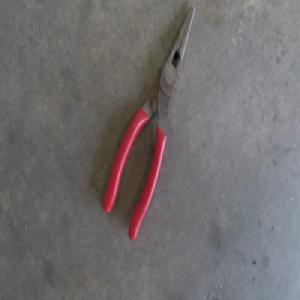Pliers: (105, 9, 195, 240)
